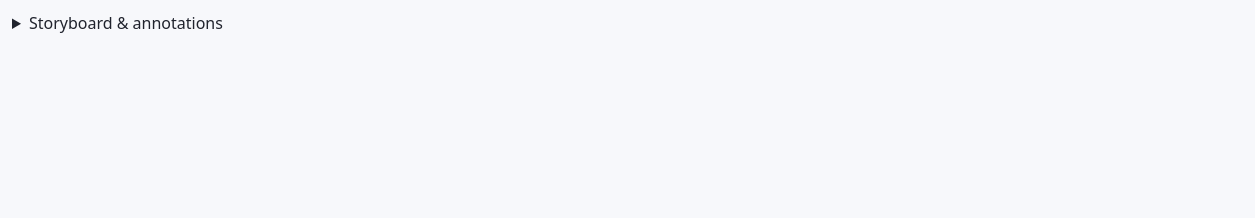
Test case: guards a panel caption until its blur write commits and invalidates review
The width and height of the screenshot is (1255, 218).
Click the heading "Storyboard & annotations": {"x": 126, "y": 23} x1=29 y1=12 x2=223 y2=34
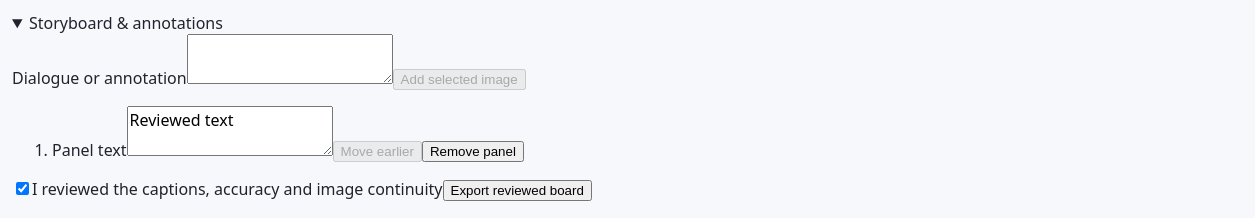
Now the button "Export reviewed board" is enabled, box x1=442 y1=180 x2=592 y2=201
Replace the text in the text box labelled "Panel text" with "Edited text": {"x": 230, "y": 131} x1=127 y1=106 x2=333 y2=156
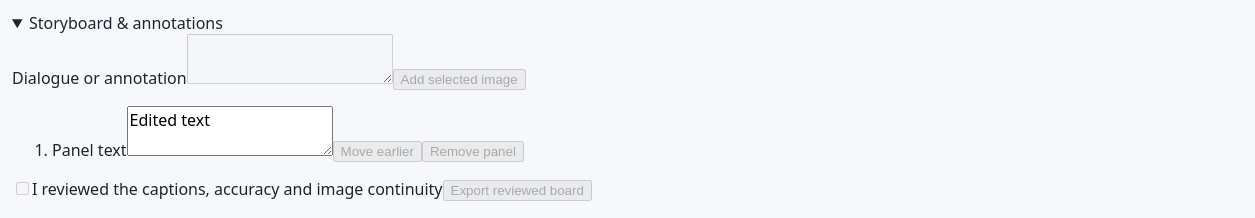
Now the button "Export reviewed board" is disabled, box x1=442 y1=180 x2=592 y2=201
Leave the text box labelled "Panel text", box x1=127 y1=106 x2=333 y2=156
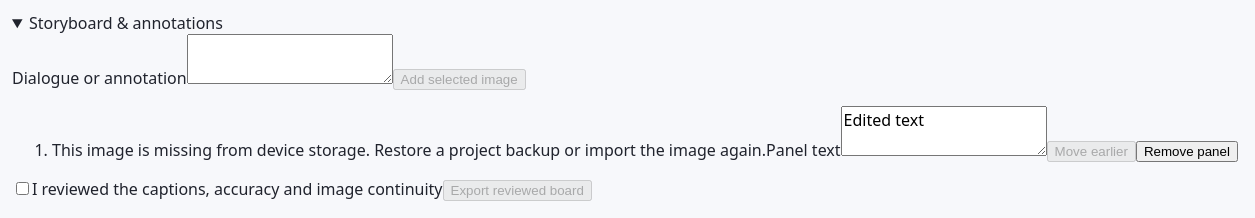
Now the button "Export reviewed board" is disabled, box x1=442 y1=180 x2=592 y2=201
Now the checkbox is enabled, box x1=16 y1=182 x2=29 y2=195
